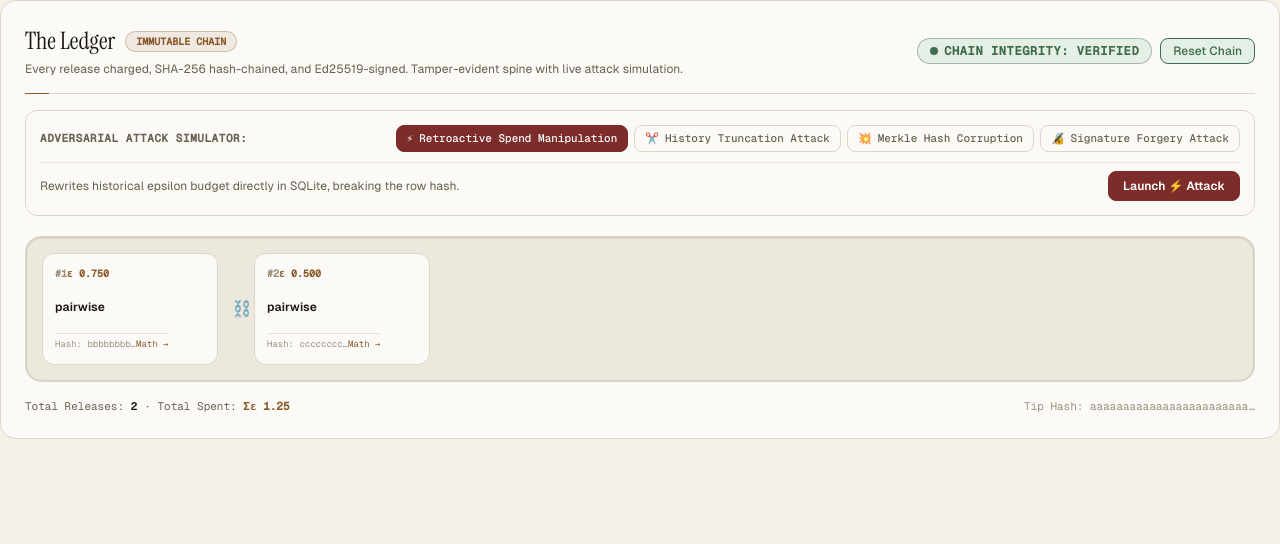
it: LedgerChain › surfaces the tamper result and marks the downstream blocks broken
Click the button "Launch ⚡ Attack" at (1174, 186), box [1108,170,1240,200]
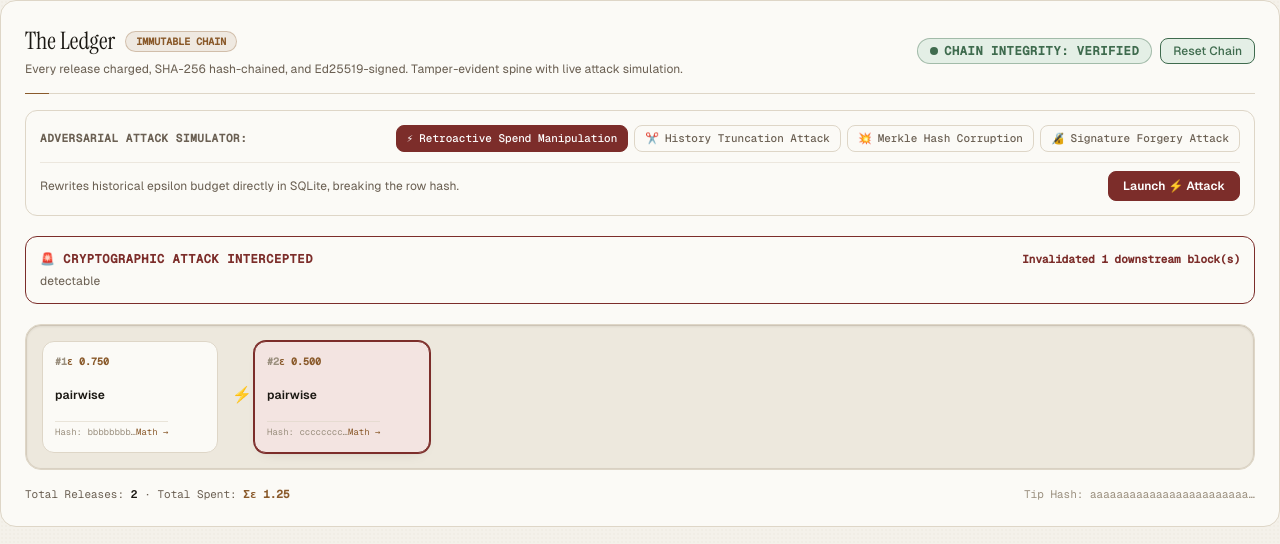
Expected: the text "Invalidated 1 downstream block(s)" is shown, [1022,250,1240,266]
